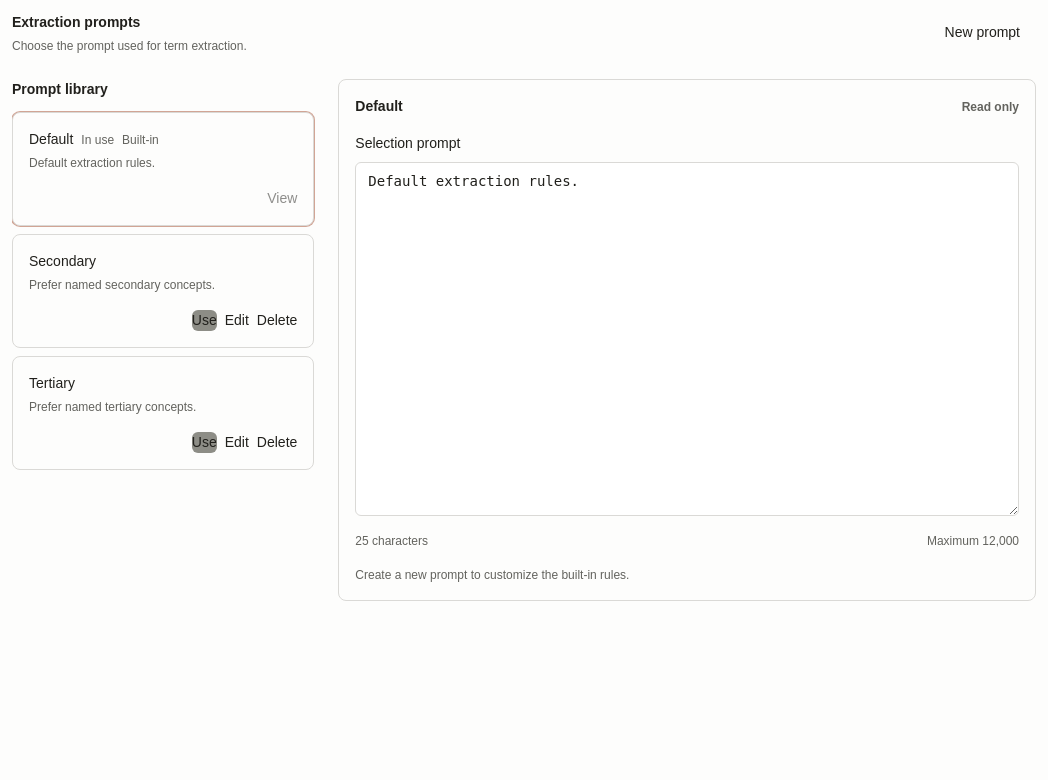
it: TermExtractionPromptTab › uses the prompt currently being viewed as the seed for a new prompt
Click the button with aria-label "Edit Secondary" at {"x": 237, "y": 320}, box [225,310,249,331]
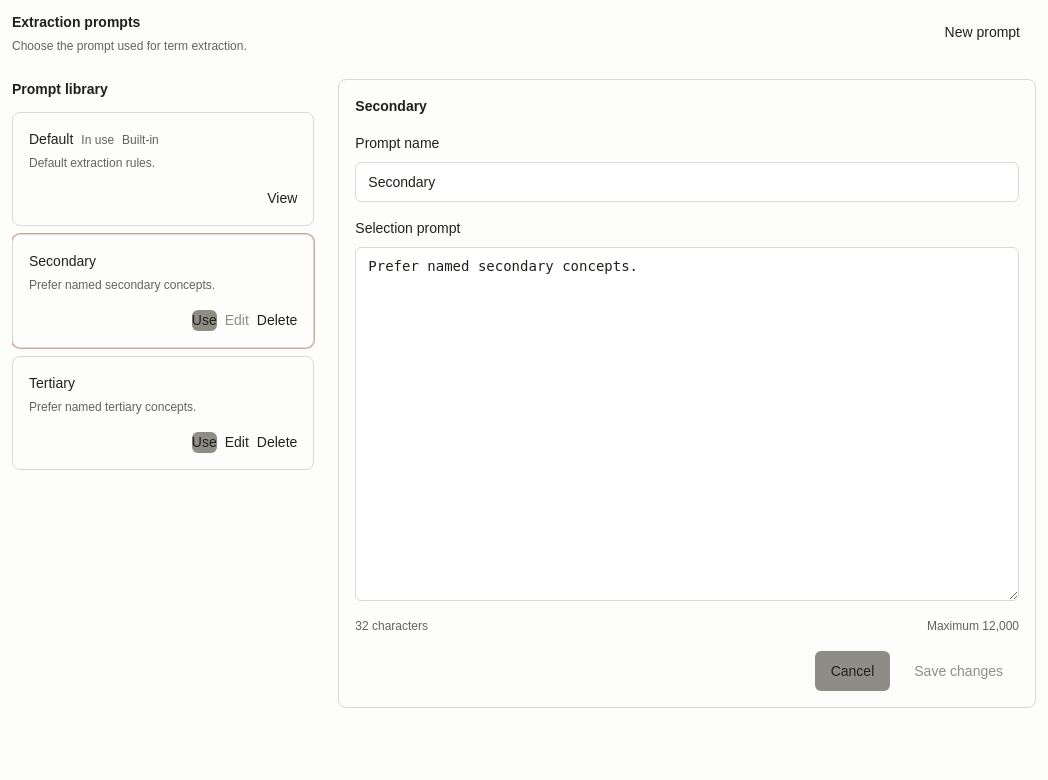
Now the text box named "Term extraction selection prompt" holds "Prefer named secondary concepts.", box [355,247,1019,601]
Click the button "New prompt" at {"x": 982, "y": 32}, box [928,12,1036,52]
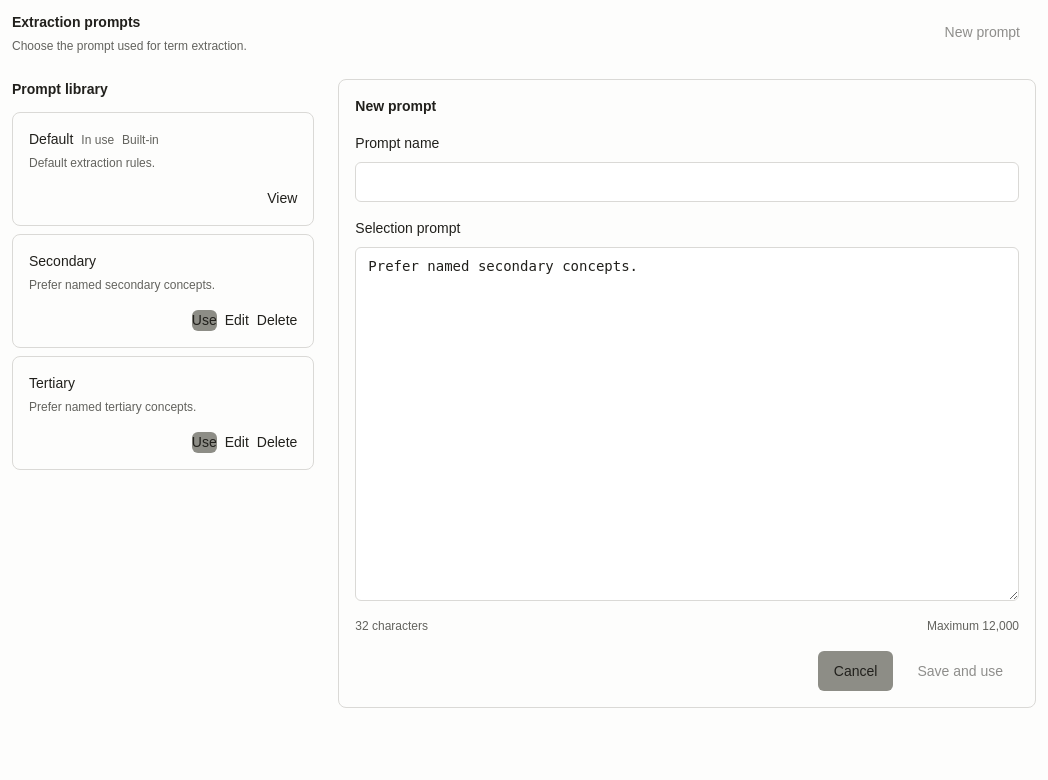
Now the text box named "Term extraction selection prompt" holds "Prefer named secondary concepts.", box [355,247,1019,601]
Now the field labelled "Prompt name" is empty, box [355,162,1019,202]
Click the button with aria-label "View Default" at {"x": 282, "y": 198}, box [267,188,297,209]
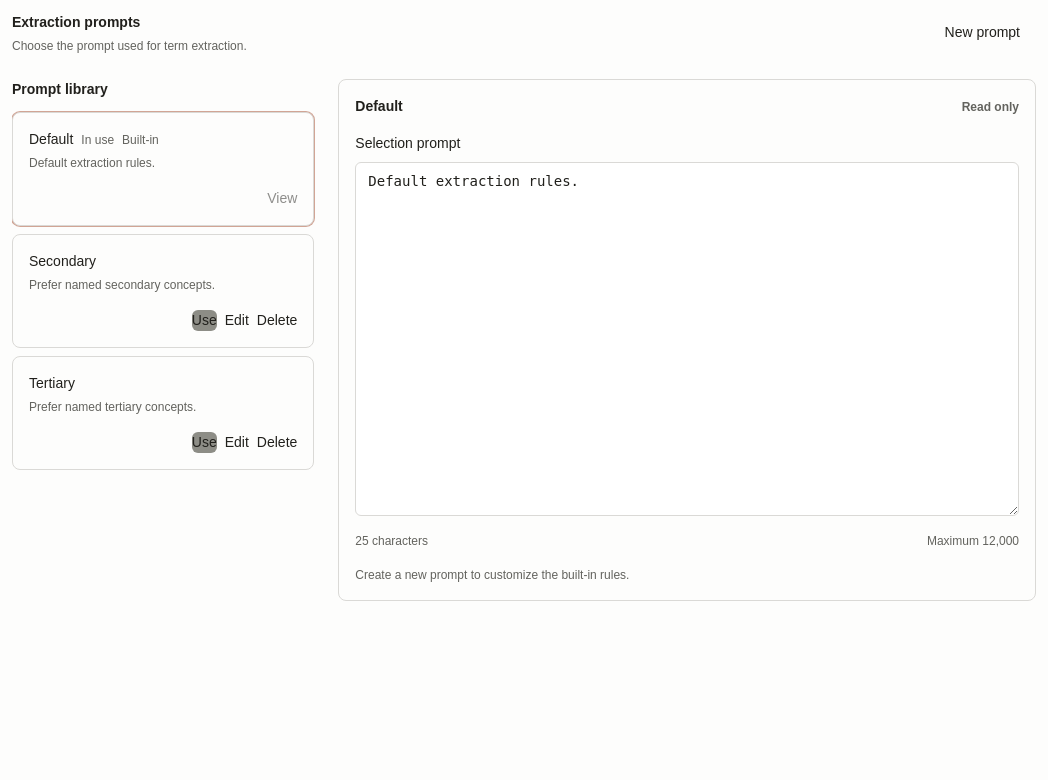
Now the text box named "Term extraction selection prompt" holds "Default extraction rules.", box [355,162,1019,516]
